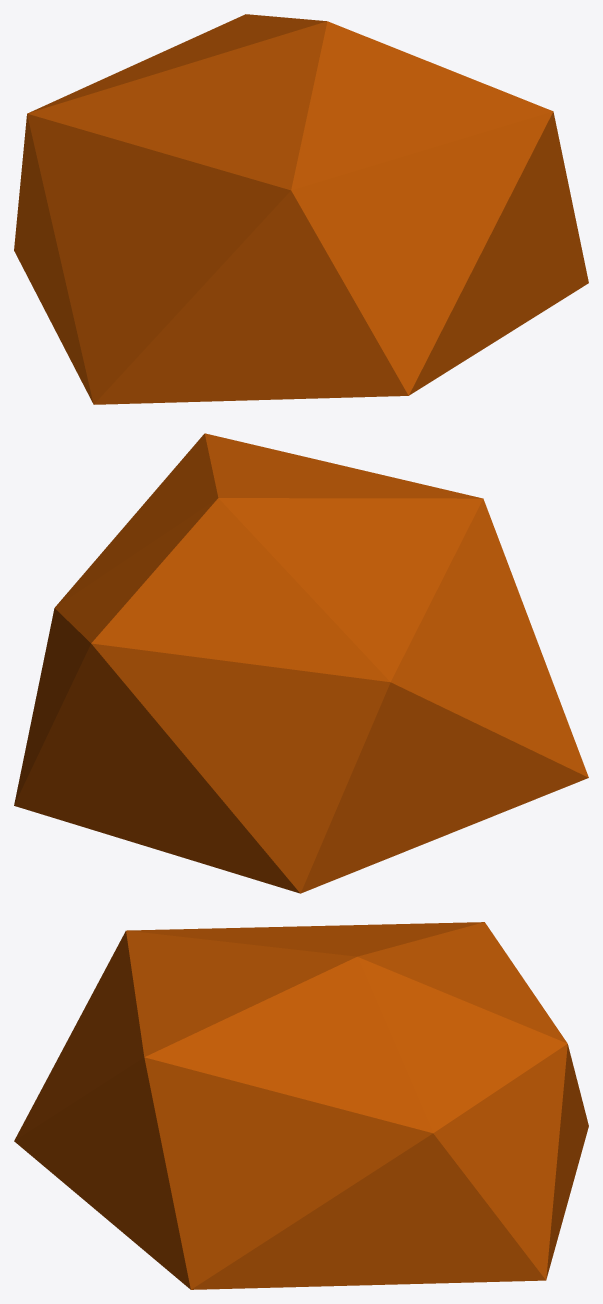
Rendered from RockSmall1.glb.
The picture shows the model from 3 angles, top to bottom: view 1: azimuth 30°, elevation 25°; view 2: azimuth 150°, elevation 25°; view 3: azimuth 270°, elevation 25°; orthographic projection.
Parts seen in each view (by area): view 1: RockSmall1; view 2: RockSmall1; view 3: RockSmall1.
Part boxes in pixels (bbox=[...]): RockSmall1: bbox=[14, 14, 588, 404]; RockSmall1: bbox=[14, 433, 588, 893]; RockSmall1: bbox=[14, 922, 588, 1289].
Bounding box in the file's own units: 0.5846 × 0.3109 × 0.6017.
